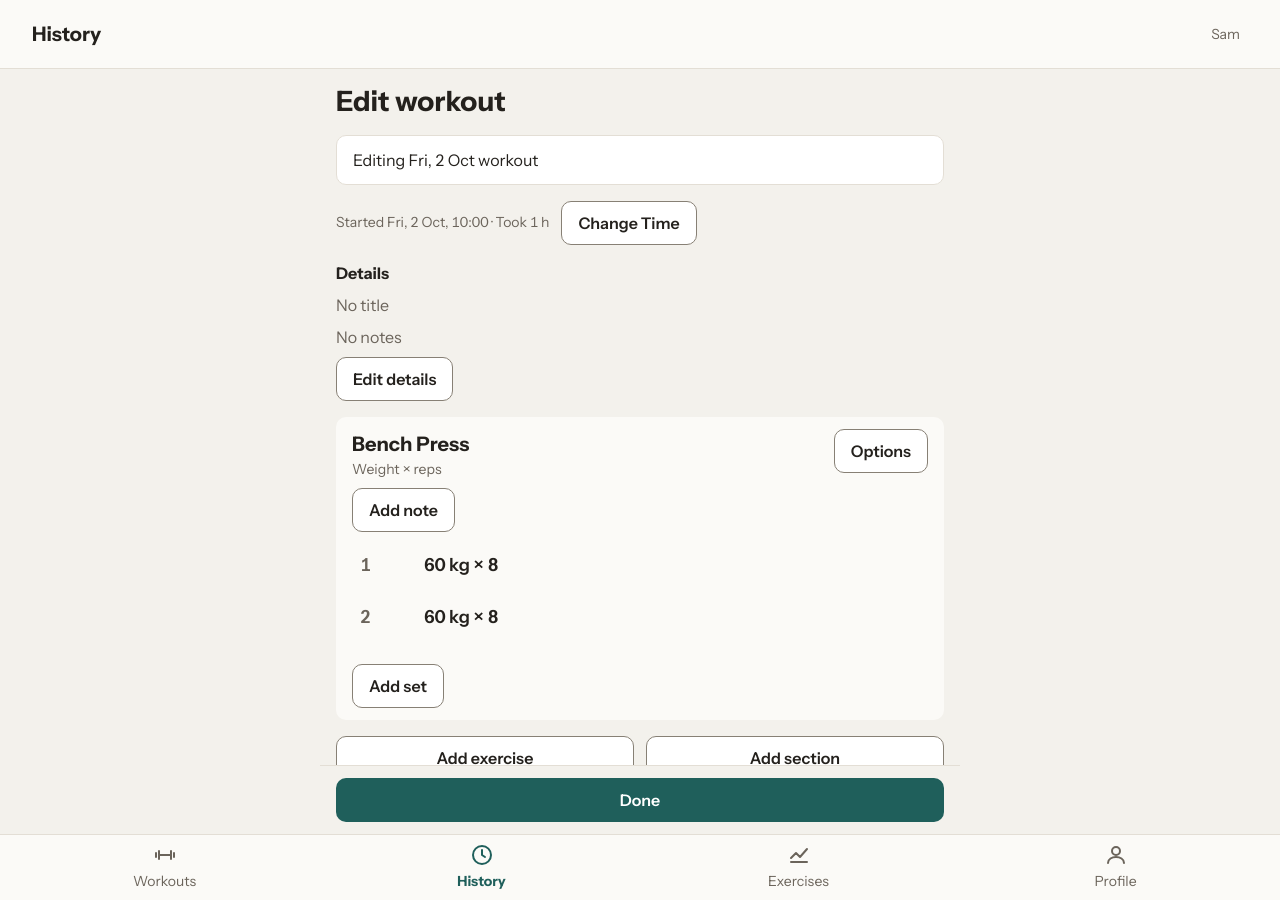
Test: 18.0 AC18 — removing the last exercise with sets › 409 workout-would-be-empty opens the last-set dialog; the card is unchanged
The width and height of the screenshot is (1280, 900).
Expected: the heading "Edit workout" is shown, [336,84,506,118]
Click the button with aria-label "Options for " at (881,451), box [834,429,928,473]
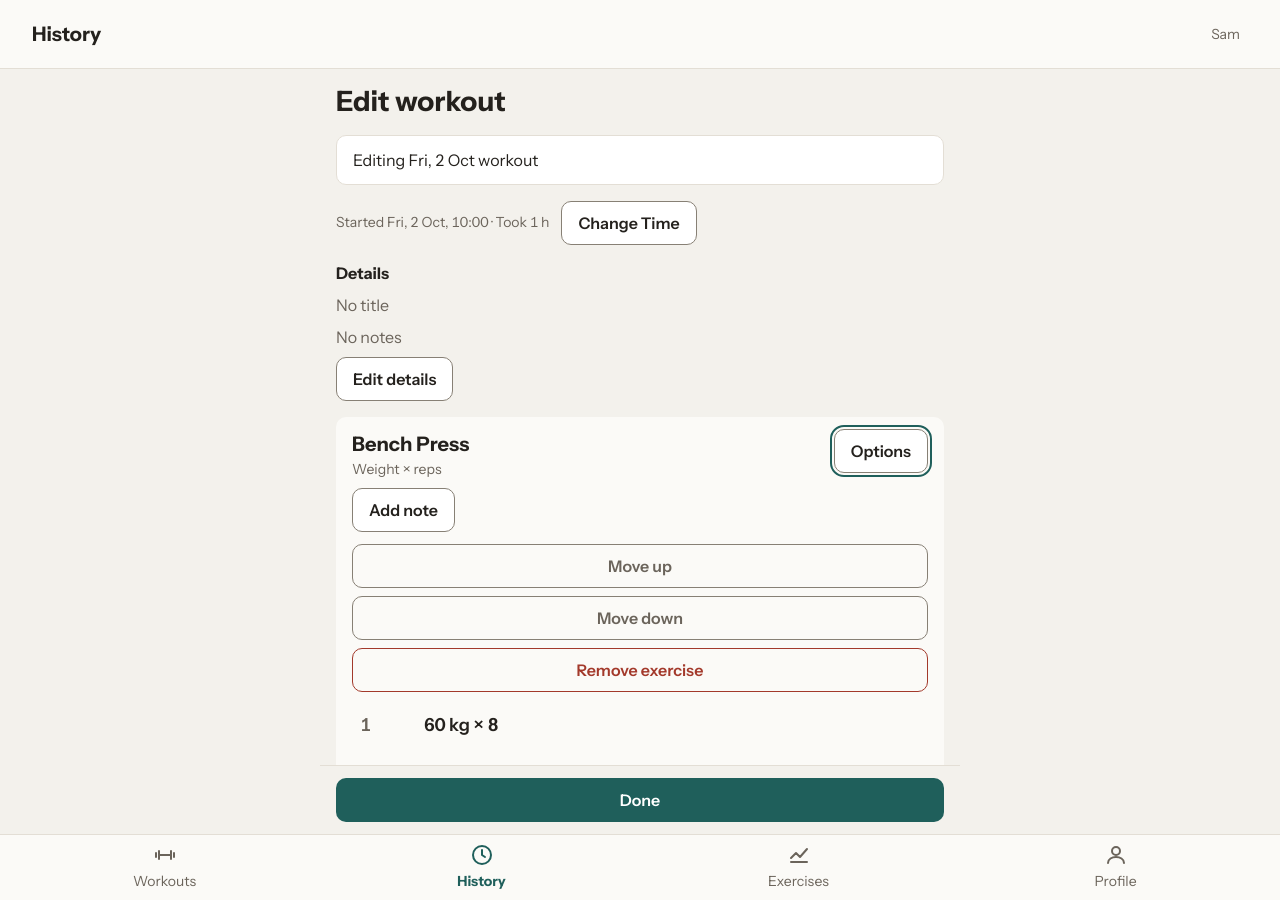
Click the button "Remove exercise" at (640,670), box [352,648,928,692]
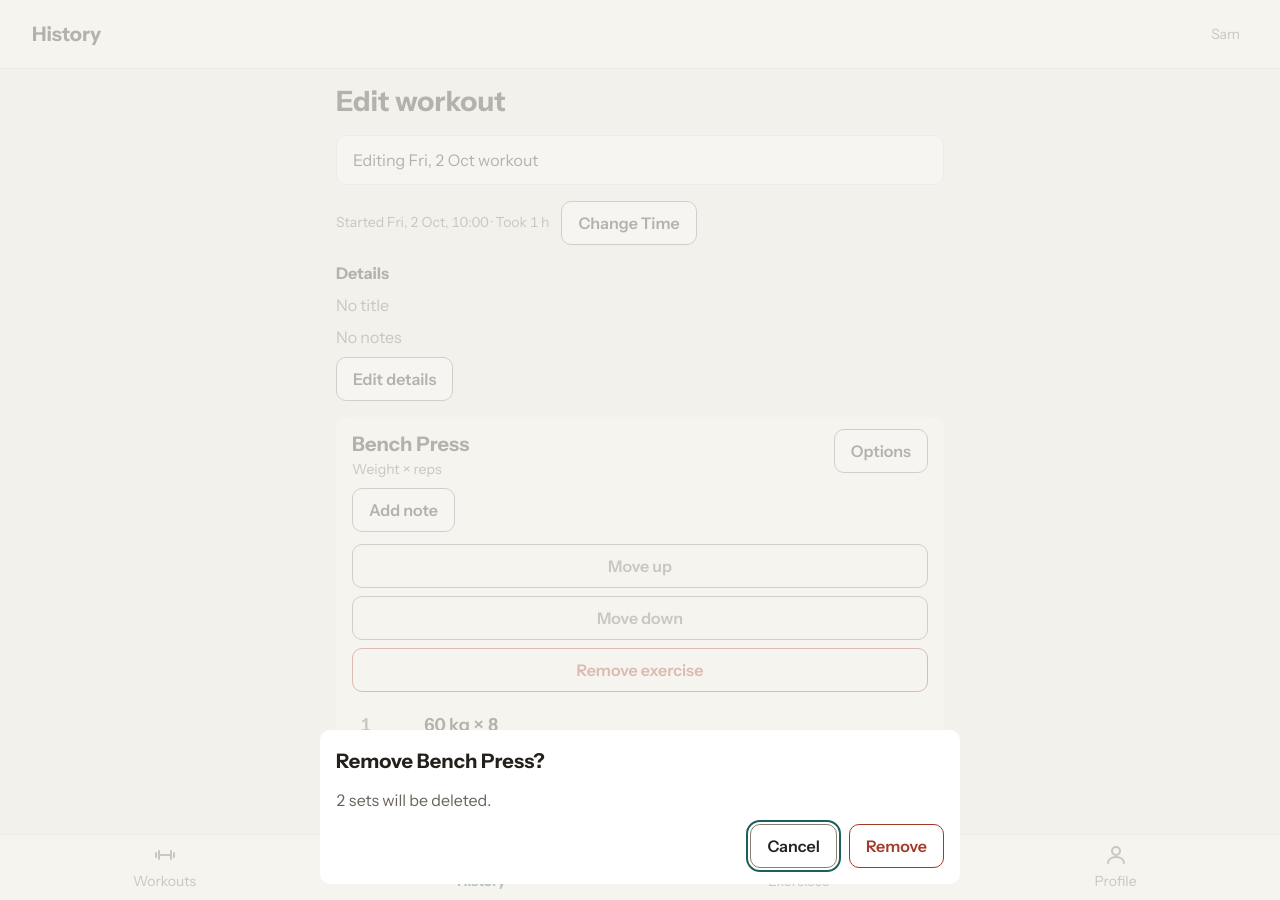
Click the button "Remove" at (896,846), box [849,824,944,868]
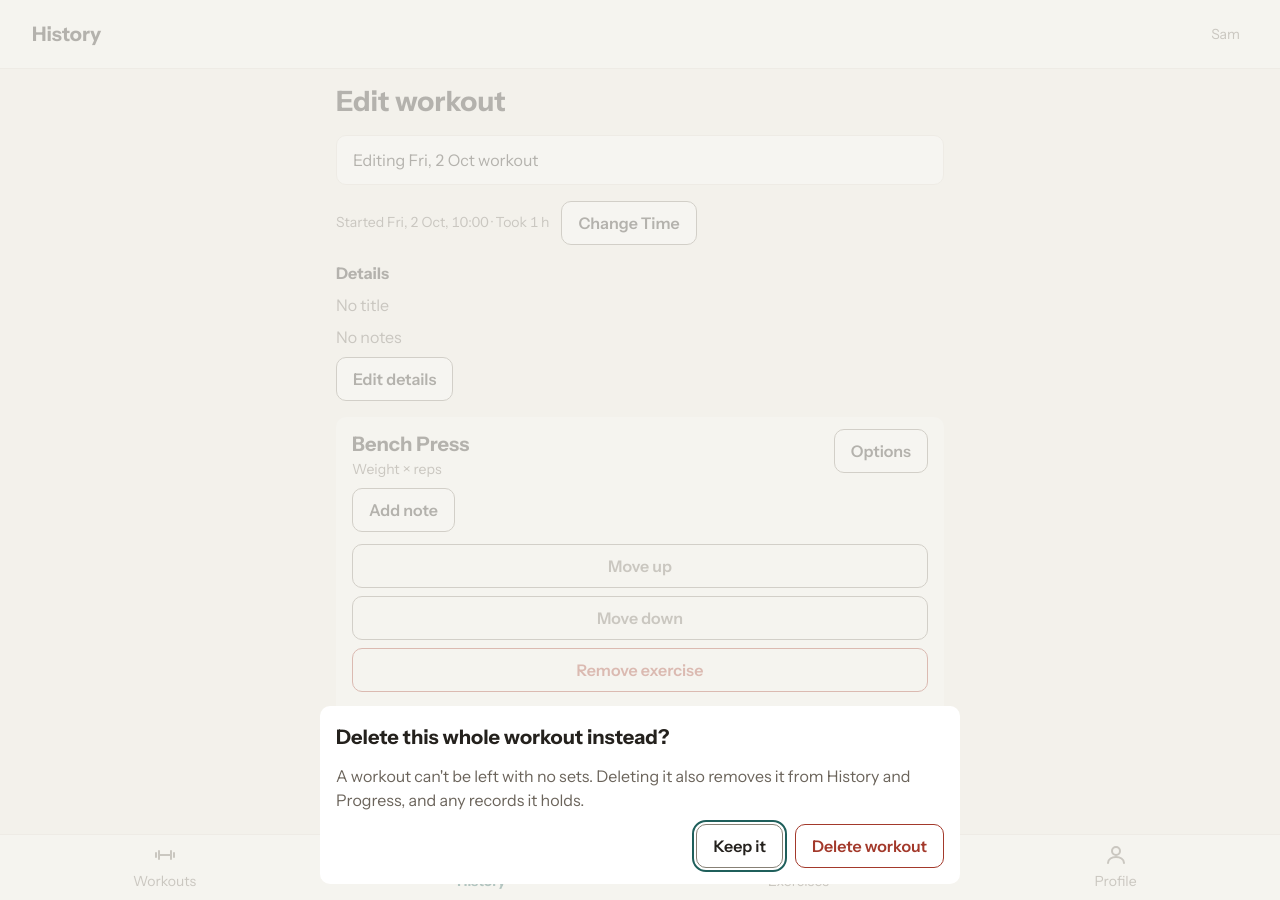
Expected: the dialog "Delete this whole workout instead?" is shown, [320,706,960,884]
